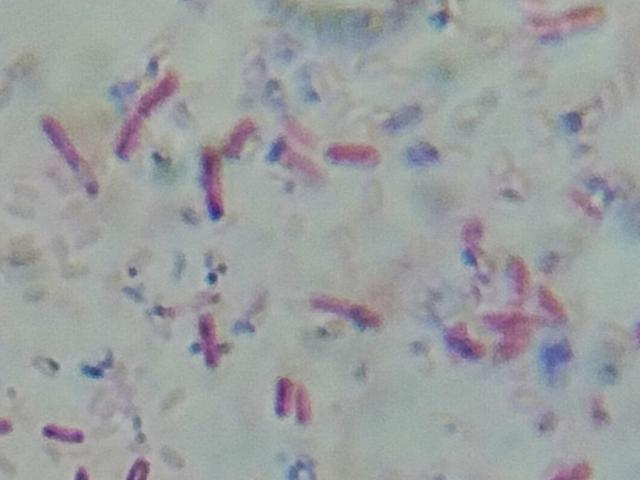E. coli: (111, 65, 184, 158), (41, 116, 100, 205), (318, 286, 382, 327), (196, 145, 230, 222), (326, 130, 387, 168), (446, 217, 489, 265), (194, 311, 228, 371), (526, 283, 570, 326), (492, 316, 524, 371), (216, 109, 254, 155), (482, 302, 541, 331), (545, 447, 590, 480), (502, 250, 536, 291), (269, 375, 295, 423), (288, 377, 312, 425), (41, 419, 80, 447), (121, 451, 151, 480), (71, 461, 95, 480)
